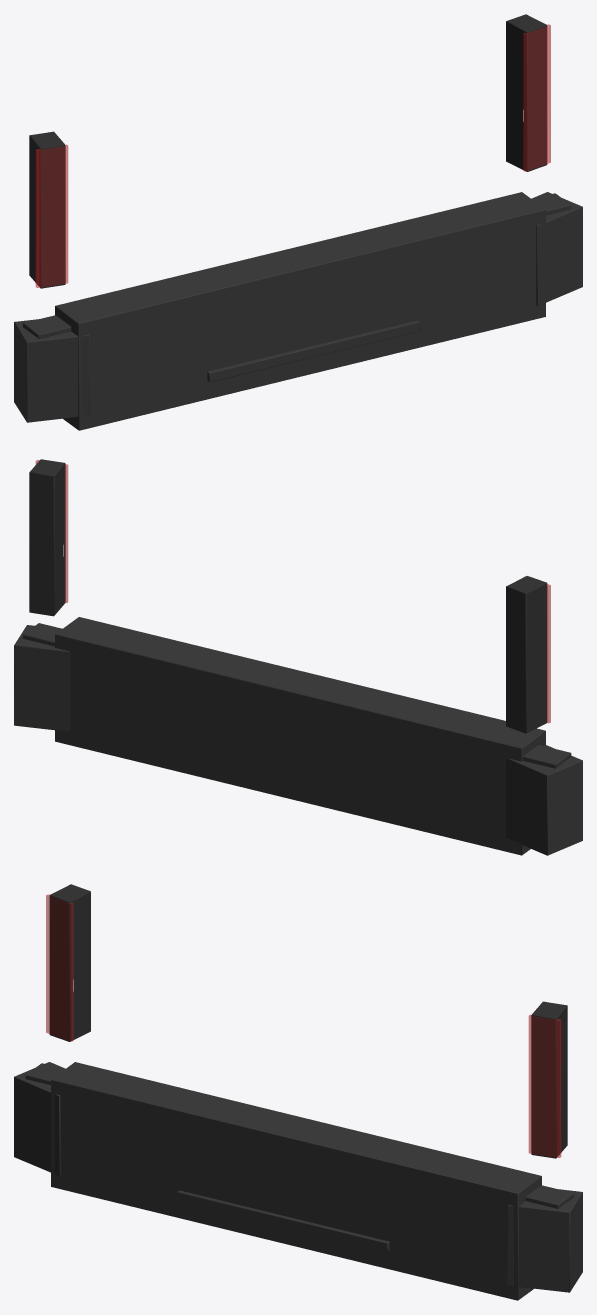
File: hilux_rear_fascia.glb
The picture shows the model from 3 angles, top to bottom: view 1: azimuth 30°, elevation 25°; view 2: azimuth 150°, elevation 25°; view 3: azimuth 330°, elevation 25°; orthographic projection.
Visible parts, largest first — view 1: REAR_Bumper_Step, LIGHT_TaillampHousing_L, LIGHT_TaillampHousing_R, LIGHT_TaillampOuterLens_R, LIGHT_TaillampOuterLens_L; view 2: REAR_Bumper_Step, LIGHT_TaillampHousing_R, LIGHT_TaillampHousing_L, LIGHT_TaillampOuterLens_R, LIGHT_TaillampOuterLens_L; view 3: REAR_Bumper_Step, LIGHT_TaillampHousing_R, LIGHT_TaillampHousing_L, LIGHT_TaillampOuterLens_L, LIGHT_TaillampOuterLens_R.
Part boxes in pixels (x1,y1,x2,y2): REAR_Bumper_Step: (14, 192, 582, 430); LIGHT_TaillampHousing_L: (506, 14, 547, 171); LIGHT_TaillampHousing_R: (29, 131, 65, 288); LIGHT_TaillampOuterLens_R: (35, 144, 68, 287); LIGHT_TaillampOuterLens_L: (523, 24, 550, 171); REAR_Bumper_Step: (14, 617, 582, 855); LIGHT_TaillampHousing_R: (506, 576, 547, 733); LIGHT_TaillampHousing_L: (29, 459, 65, 616); LIGHT_TaillampOuterLens_R: (523, 576, 550, 723); LIGHT_TaillampOuterLens_L: (35, 460, 68, 602); REAR_Bumper_Step: (14, 1062, 582, 1300); LIGHT_TaillampHousing_R: (49, 884, 90, 1041); LIGHT_TaillampHousing_L: (531, 1001, 567, 1158); LIGHT_TaillampOuterLens_L: (528, 1014, 561, 1157); LIGHT_TaillampOuterLens_R: (46, 894, 73, 1041).
Bounding box in the file's own units: 1.9 × 0.8959 × 0.2197.
